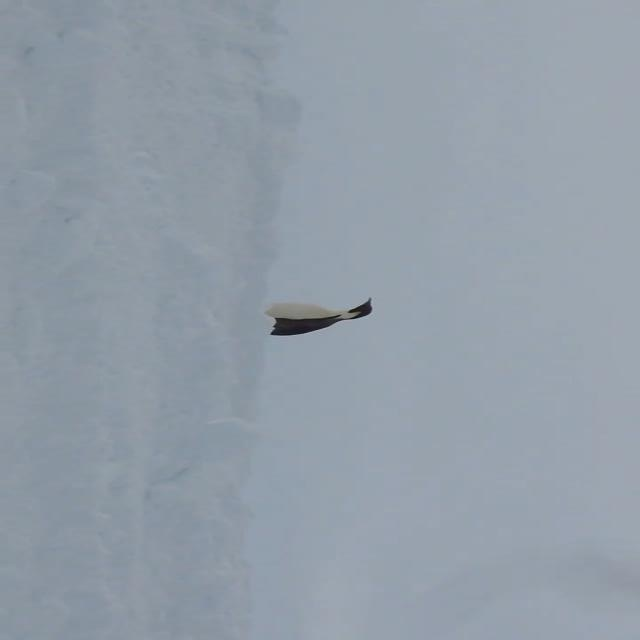penguin: (265, 298, 376, 338)
